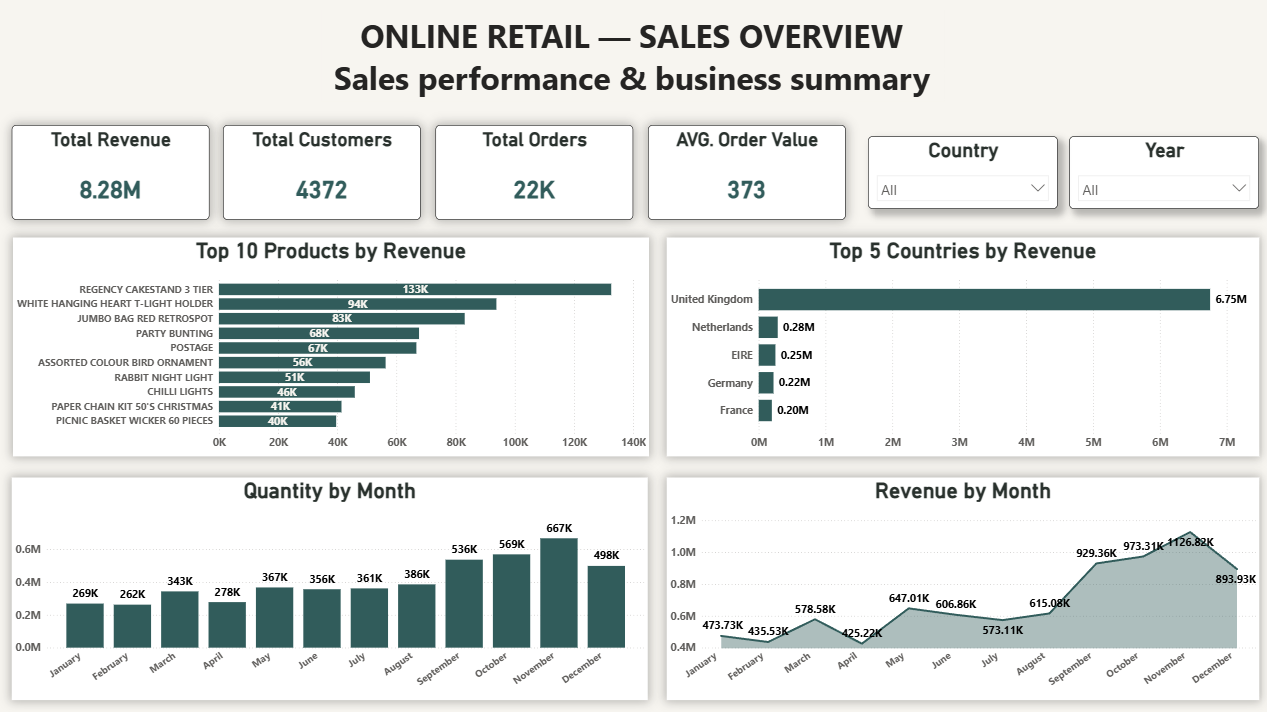

What the dashboard file says about the page in this screenshot:
{"tool":"powerbi","page":{"name":"Executive Overview","canvas":[1920,1080],"ordinal":0},"visuals":[{"type":"card","title":"AVG. Order Value","fields":{"Values":["Mesure.AVG. Order Value"]},"box":[981.2,188.7,298.1,143.4],"z":0,"group":"g1"},{"type":"areaChart","title":" Revenue by Month","fields":{"Category":["online_retail.InvoiceDate.Variation.Date Hierarchy.Month"],"Y":["Mesure.Total Revenue"]},"box":[1009.4,720.8,894.3,335.8],"z":0},{"type":"card","title":"Total Customers","fields":{"Values":["Mesure.Total Customers"]},"box":[339.7,188.7,298.1,143.4],"z":1000,"group":"g1"},{"type":"barChart","title":"Top 5 Countries by Revenue","fields":{"Category":["online_retail.Country"],"Y":["Mesure.Total Revenue"]},"box":[1009.4,358.5,894.3,330.2],"z":1000},{"type":"card","title":"Total Revenue","fields":{"Values":["Mesure.Total Revenue"]},"box":[20.8,188.7,298.1,143.4],"z":2000,"group":"g1"},{"type":"columnChart","title":" Quantity by Month","fields":{"Category":["online_retail.InvoiceDate.Variation.Date Hierarchy.Month"],"Y":["Sum(online_retail.Quantity)"]},"box":[20.8,720.8,960.4,335.8],"z":2000},{"type":"card","title":"Total Orders","fields":{"Values":["Mesure.Totla Orders"]},"box":[660.4,188.7,298.1,143.4],"z":3000,"group":"g1"},{"type":"barChart","title":"Top 10 Products by Revenue","fields":{"Category":["online_retail.Description"],"Y":["Mesure.Total Revenue"]},"box":[22.6,358.5,960.4,330.2],"z":3000},{"type":"slicer","title":"Year","fields":{"Values":["online_retail.InvoiceDate.Variation.Date Hierarchy.Year"]},"box":[1617,205.7,286.8,109.4],"z":4000},{"type":"slicer","title":"Country","fields":{"Values":["online_retail.Country"]},"box":[1313.2,205.7,286.8,109.4],"z":5000},{"type":"textbox","box":[488.7,15.1,939.6,137.7],"z":6000},{"type":"group","id":"g1","title":"Group 1","box":[20.8,188.7,1258.5,143.4],"z":7000}]}

Visuals, with their boxes in screenshot pixels (x1, y1, x2, y2), scaled from the page's 1920x1080 canvas onto the 1267x712 screenshot:
"AVG. Order Value" card: 647/124/844/219
" Revenue by Month" areaChart: 666/475/1256/697
"Total Customers" card: 224/124/421/219
"Top 5 Countries by Revenue" barChart: 666/236/1256/454
"Total Revenue" card: 14/124/210/219
" Quantity by Month" columnChart: 14/475/647/697
"Total Orders" card: 436/124/633/219
"Top 10 Products by Revenue" barChart: 15/236/649/454
"Year" slicer: 1067/136/1256/208
"Country" slicer: 867/136/1056/208
textbox: 322/10/943/101
"Group 1" group: 14/124/844/219
